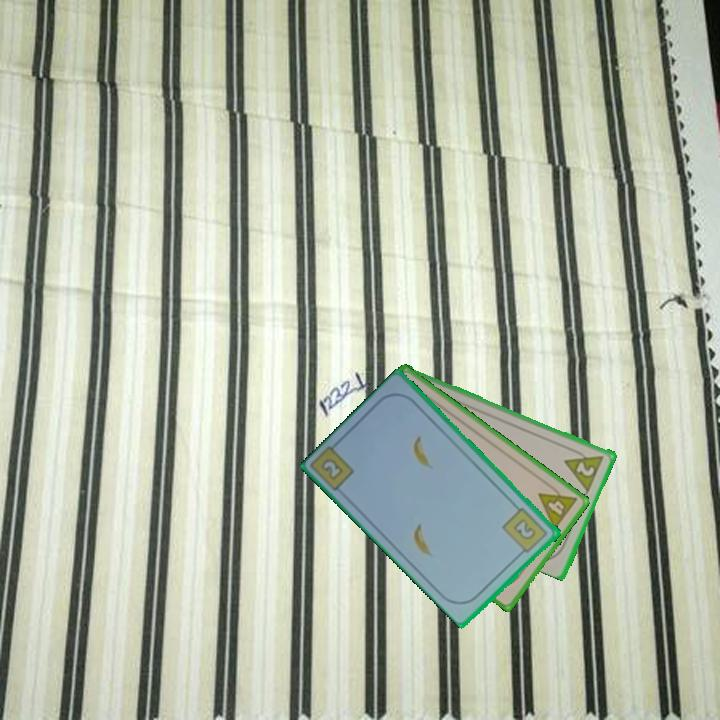2b: (499, 504, 551, 558), (320, 457, 344, 481)
2p: (561, 444, 607, 493)
4p: (535, 479, 580, 533)
